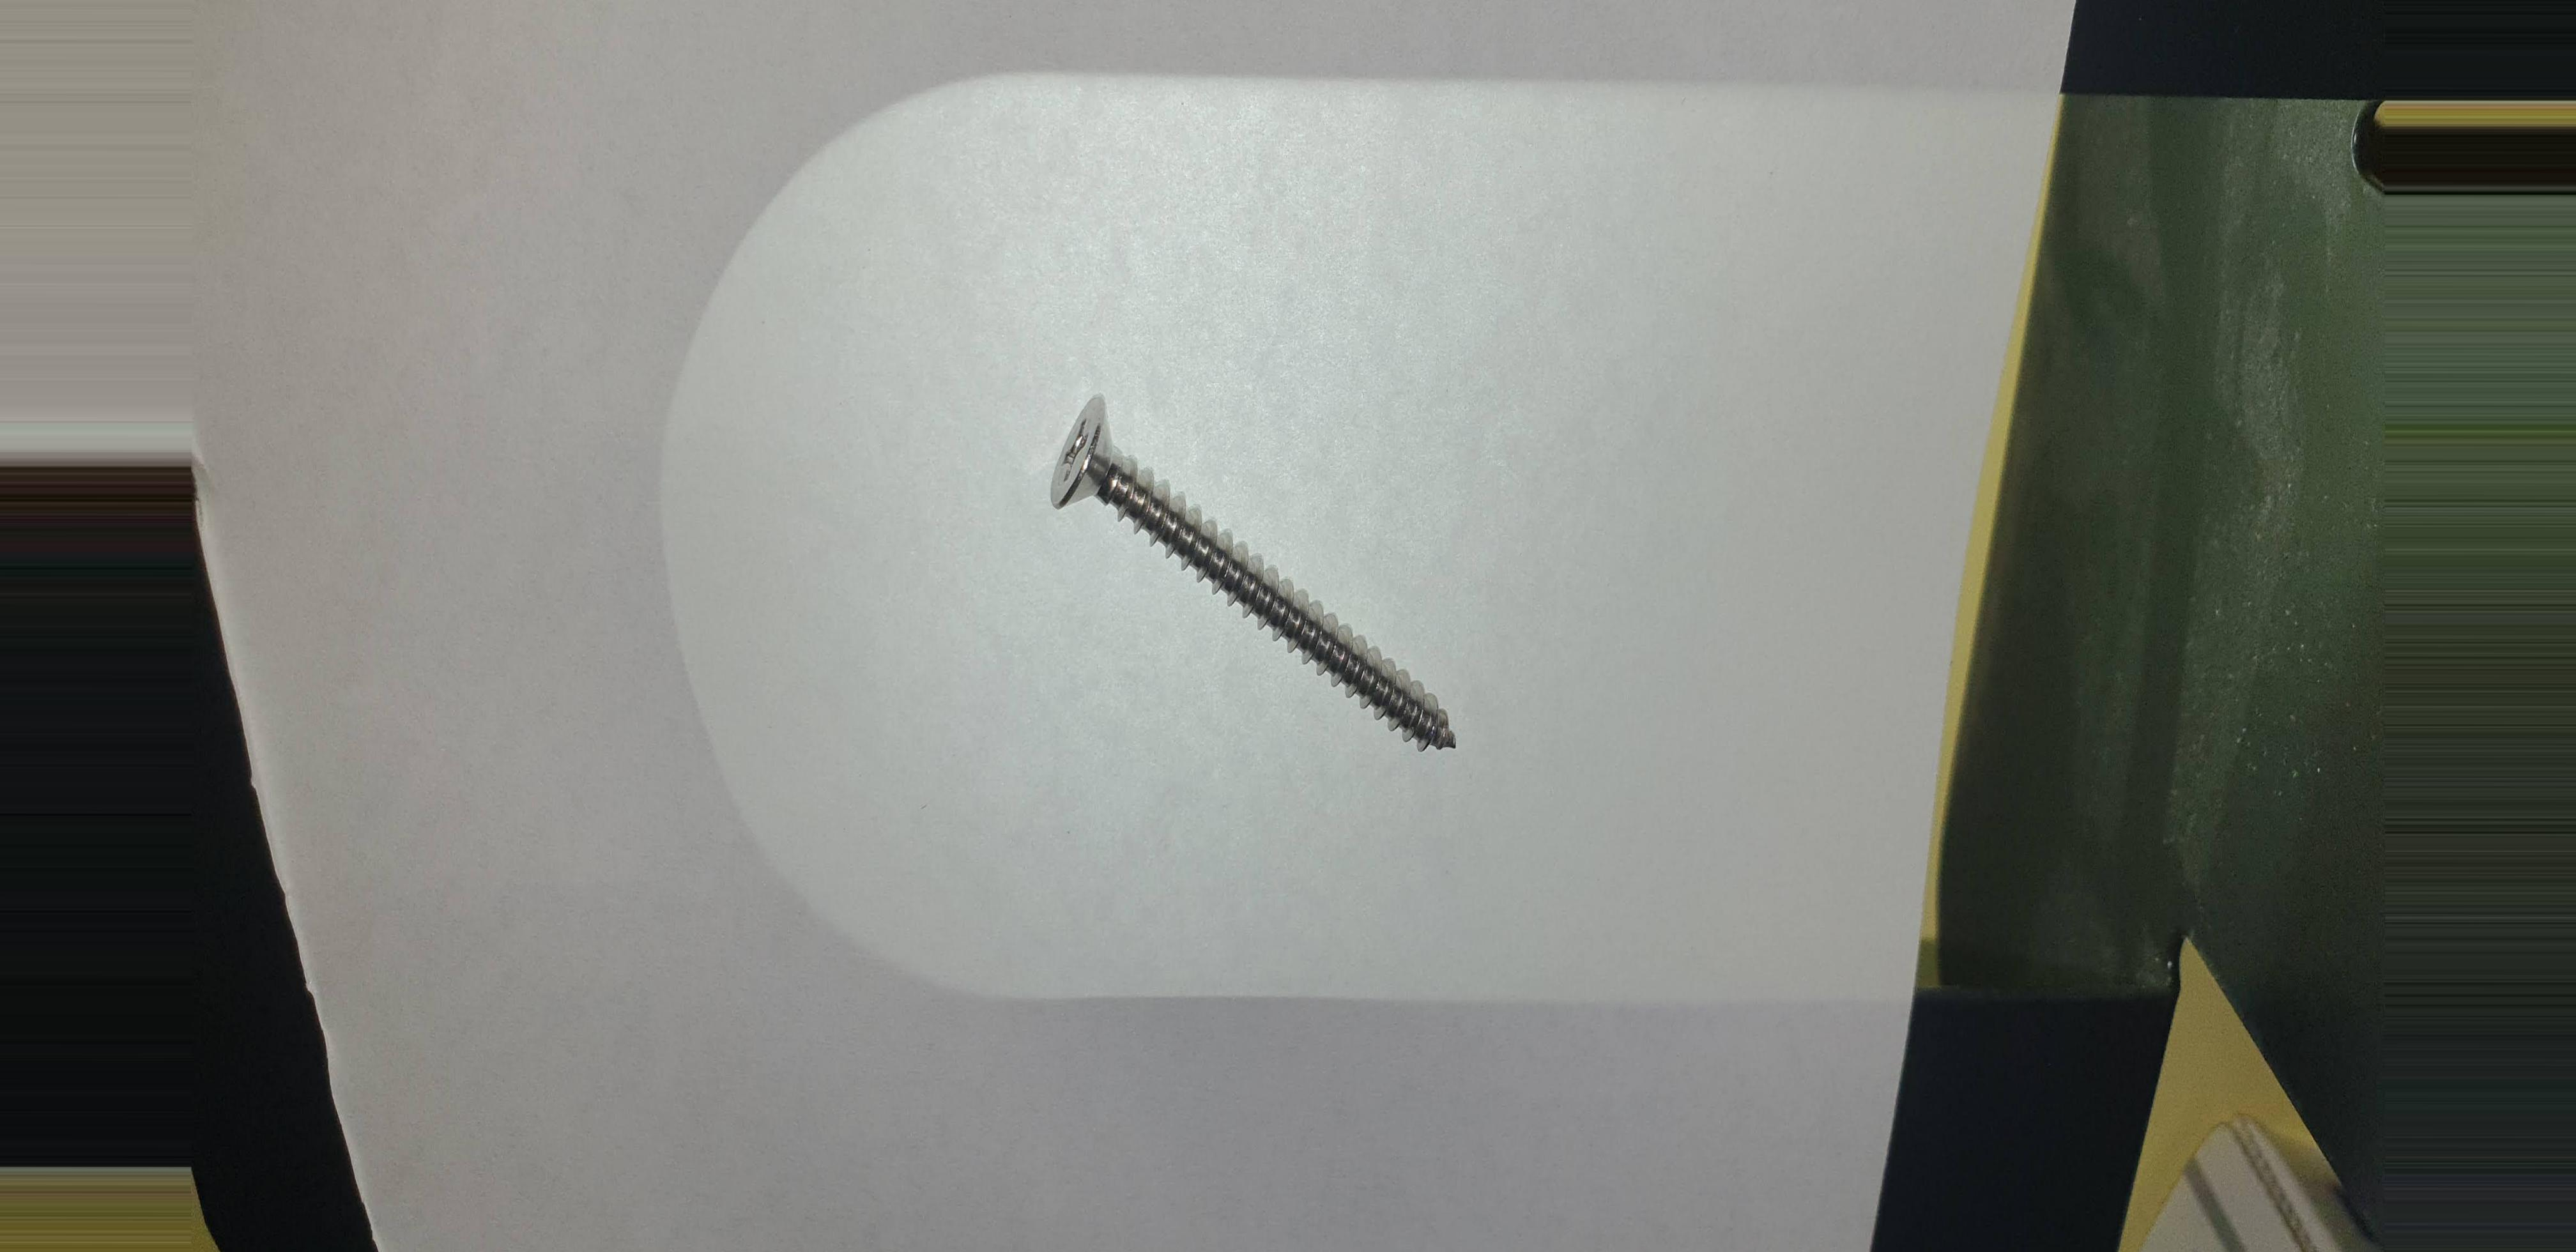fastener: (992, 322, 1575, 826)
